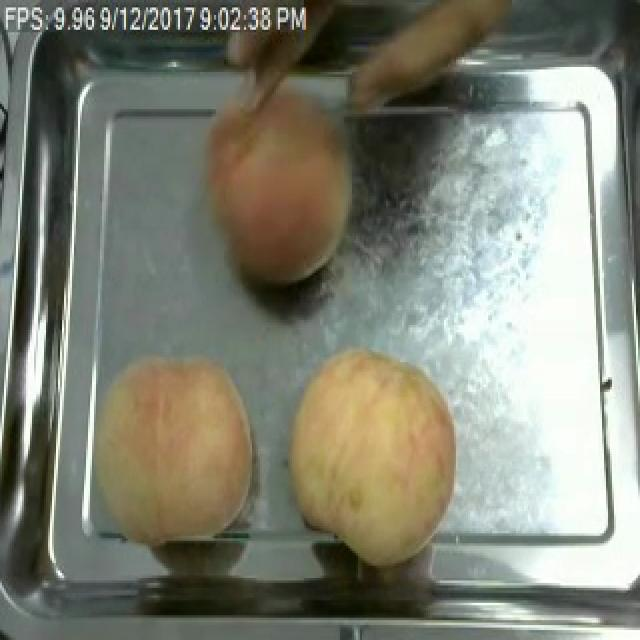Fruit: (276, 340, 466, 573), (70, 340, 262, 556), (192, 77, 364, 300)
